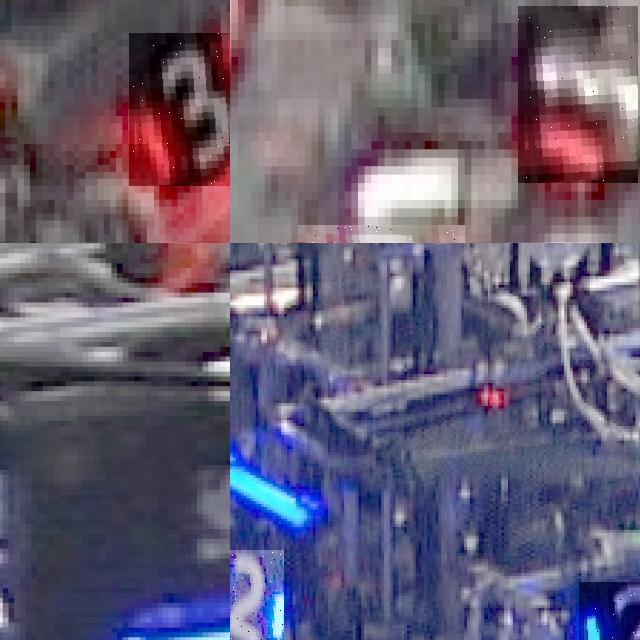B2: (230, 550, 284, 640), (578, 582, 640, 640)
R3: (518, 6, 638, 183), (128, 33, 230, 186)
